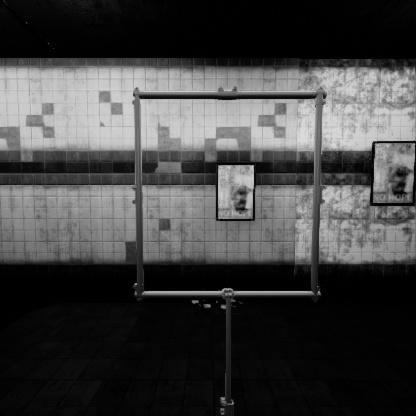gate: (134, 114, 343, 326)
